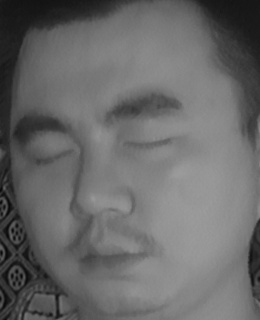blink: (120, 126, 181, 162), (27, 136, 76, 176)
mouth: (65, 228, 153, 280)
